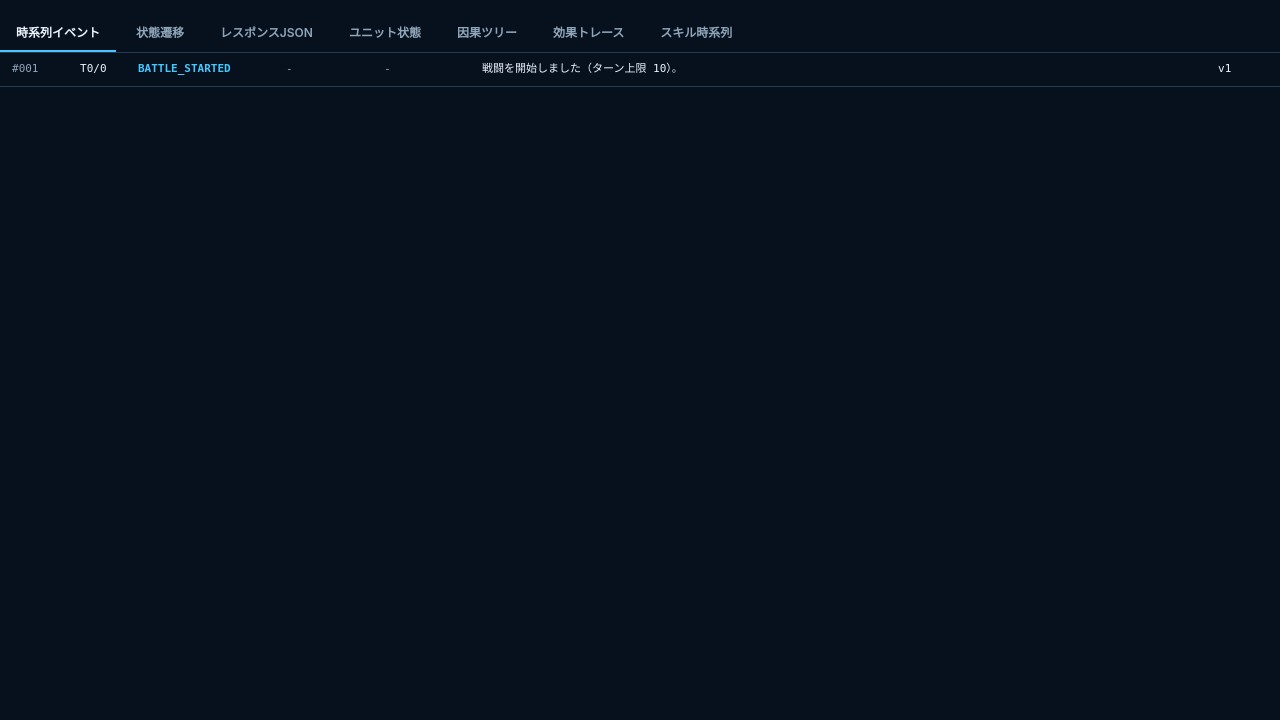
BattleDetailsSection › UI-AC-010: switches between events, transitions, JSON, unit state, and the causality tree within a single page
Expected: the button "#001 T0/0 BATTLE_STARTED - - 戦闘を開始しました（ターン上限 10）。 v1" is shown, [0,53,1279,86]
Step 1. Click the tab "状態遷移" → click(160, 34), box [120,16,200,52]
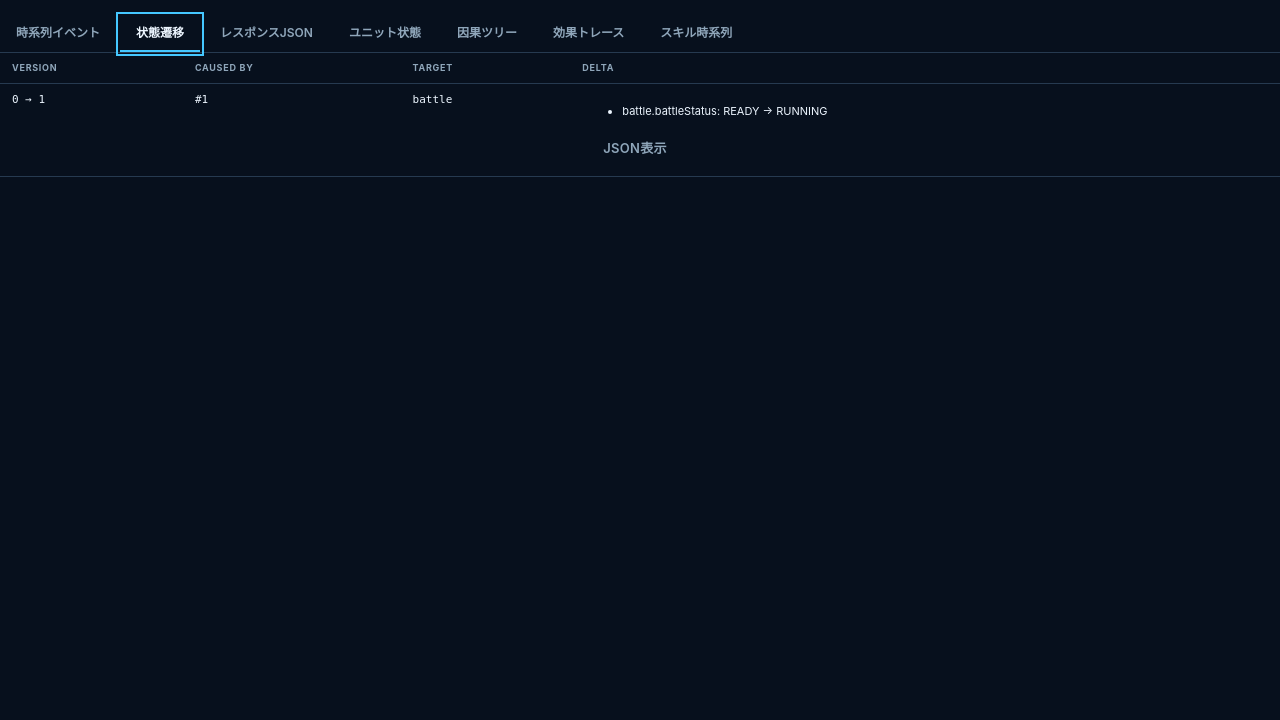
Expected: the column heading "CAUSED BY" is shown, [183,53,401,83]
Step 2. Click the tab "レスポンスJSON" → click(266, 34), box [204,16,329,52]
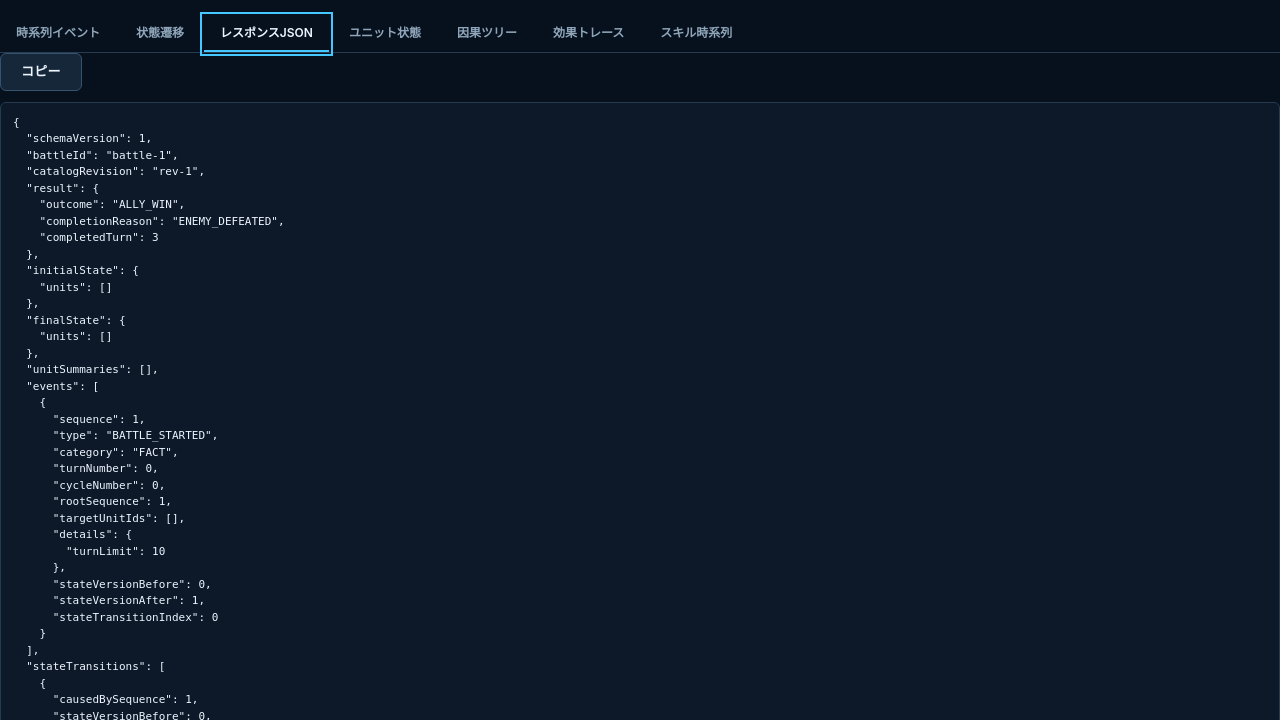
Step 3. Click the tab "ユニット状態" → click(385, 34), box [333,16,437,52]
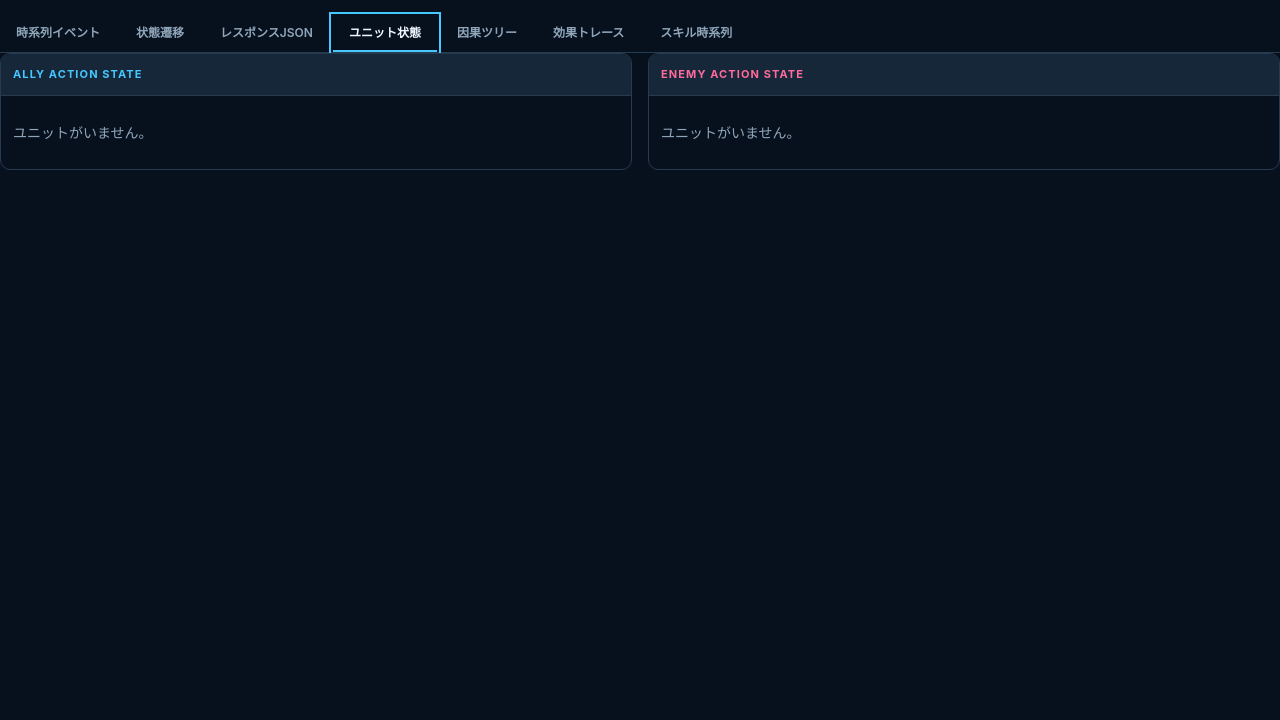
Expected: the text "ALLY ACTION STATE" is shown, [13,66,143,83]
Step 4. Click the tab "因果ツリー" → click(487, 34), box [441,16,533,52]
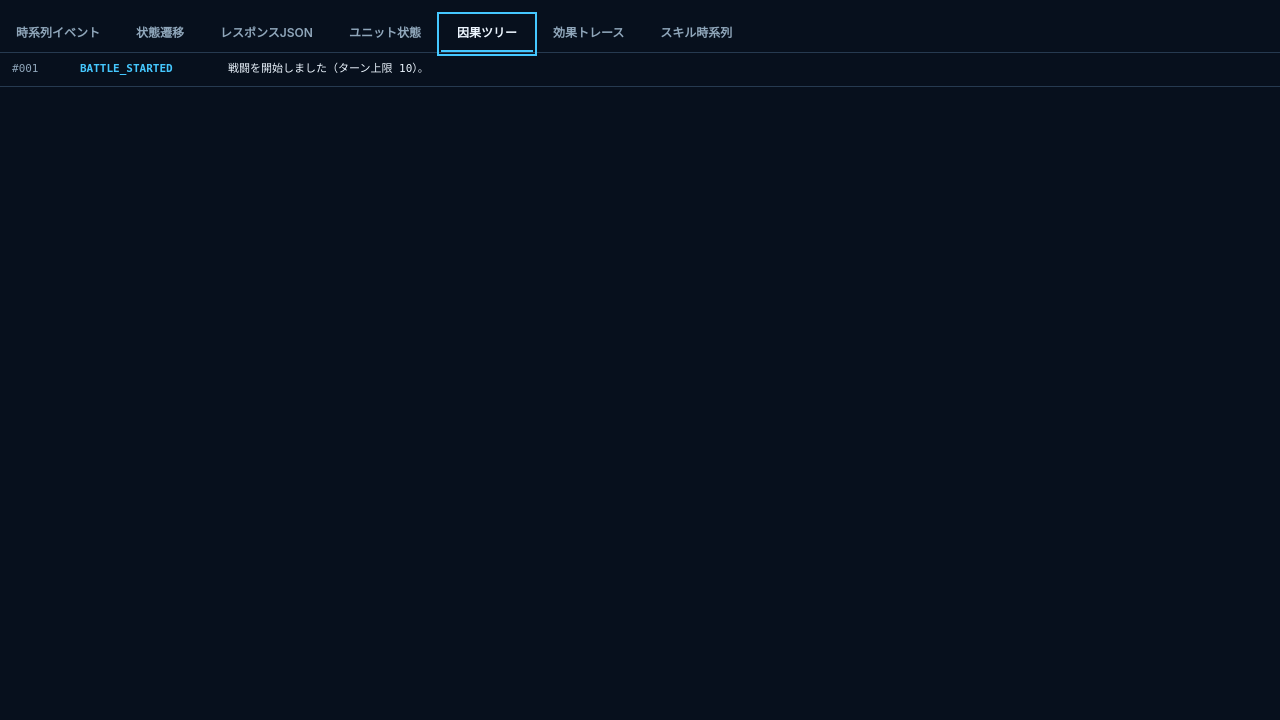
Expected: the button "#001 BATTLE_STARTED 戦闘を開始しました（ターン上限 10）。" is shown, [0,53,1279,86]
Step 5. Click the tab "効果トレース" → click(589, 34), box [537,16,640,52]
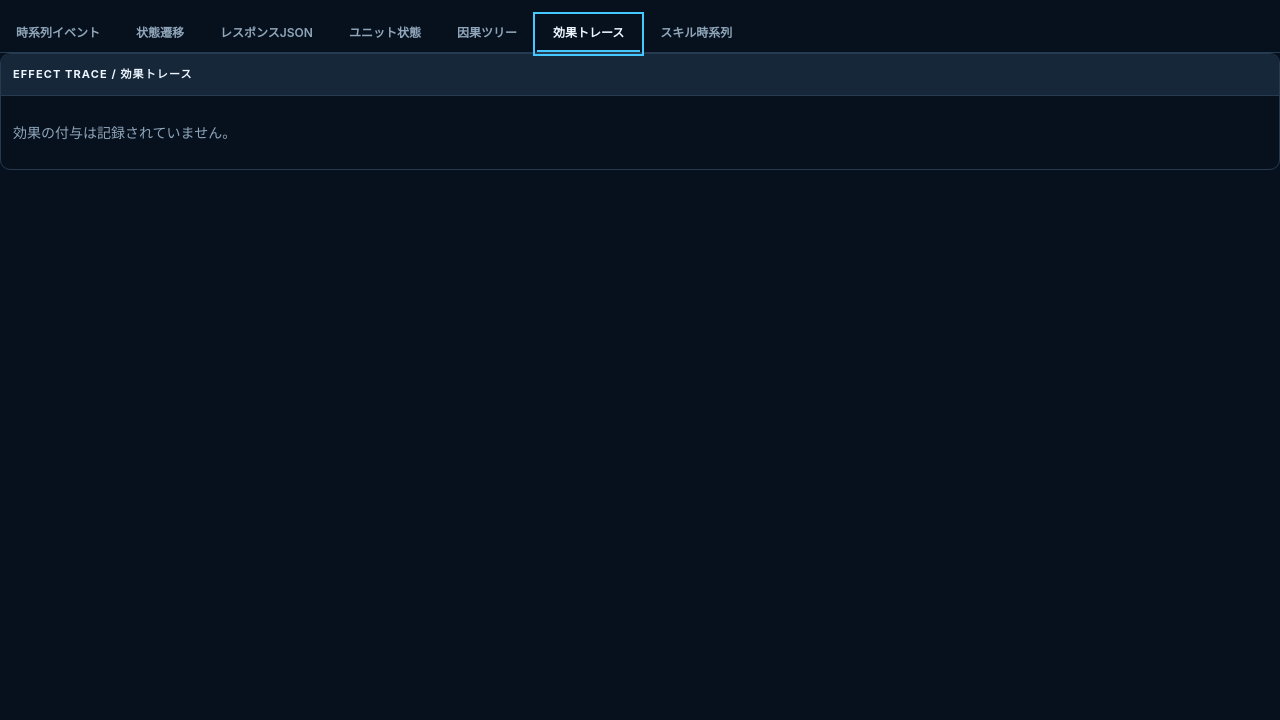
Expected: the heading "EFFECT TRACE / 効果トレース" is shown, [1,54,1279,96]
Step 6. Click the tab "スキル時系列" → click(696, 34), box [644,16,748,52]
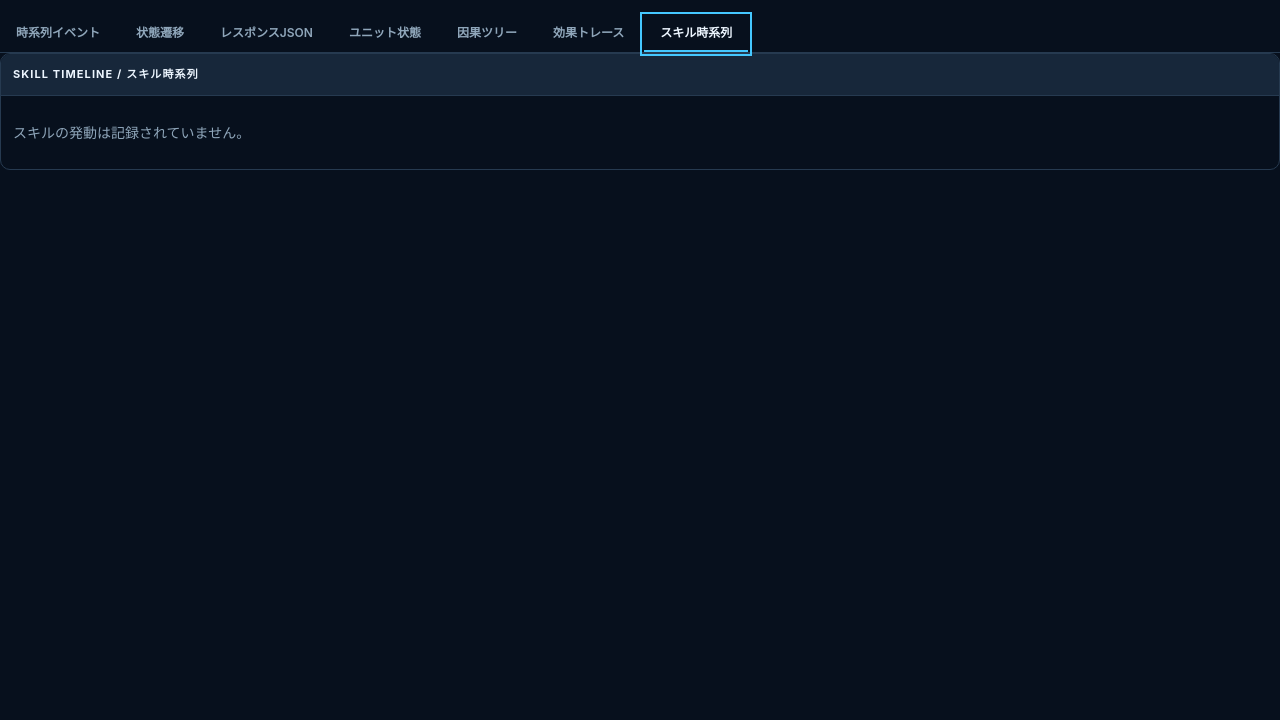
Expected: the heading "SKILL TIMELINE / スキル時系列" is shown, [1,54,1279,96]
